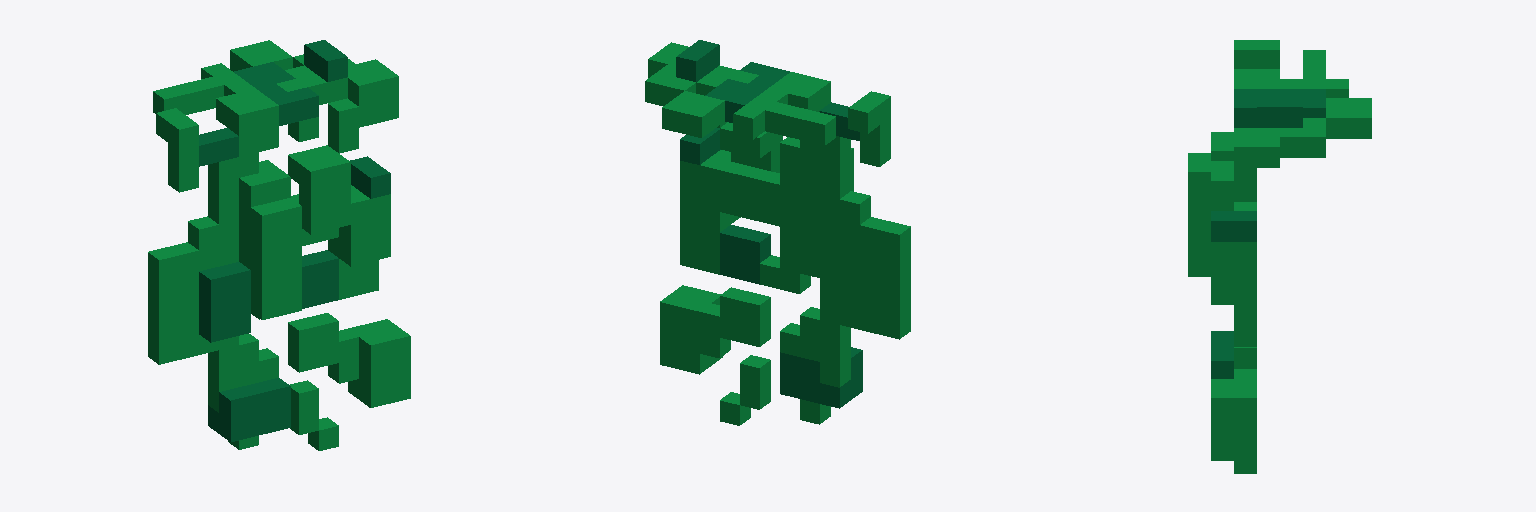
3 views of the same model, side by side, from view 1: azimuth 30°, elevation 25°; view 2: azimuth 150°, elevation 25°; view 3: azimuth 270°, elevation 25° (orthographic).
Parts seen in each view (by area): view 1: object 1; view 2: object 1; view 3: object 1.
Boxes of the visible parts, box(x1,y1,x2,y2) form: object 1: box(148, 40, 410, 450); object 1: box(645, 40, 910, 425); object 1: box(1188, 40, 1371, 473).
Size of the model in its own units: 1.2 by 1.8 by 0.8.
Materials: 1 (1 with a texture image).